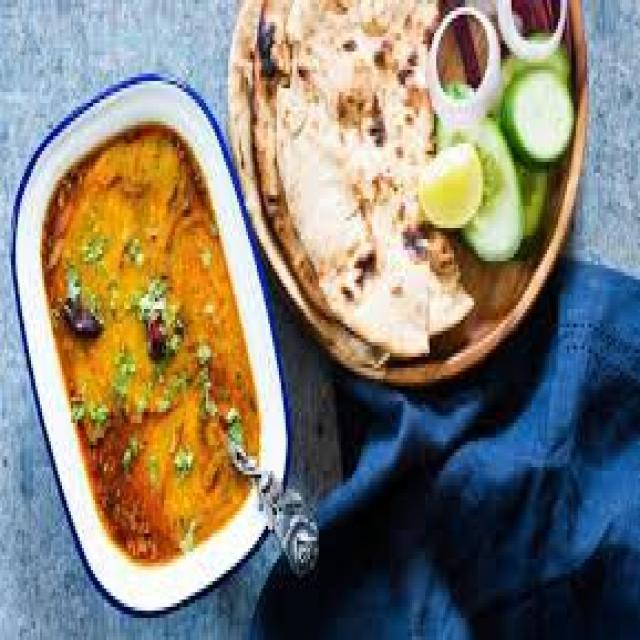dal: (45, 182, 258, 536)
